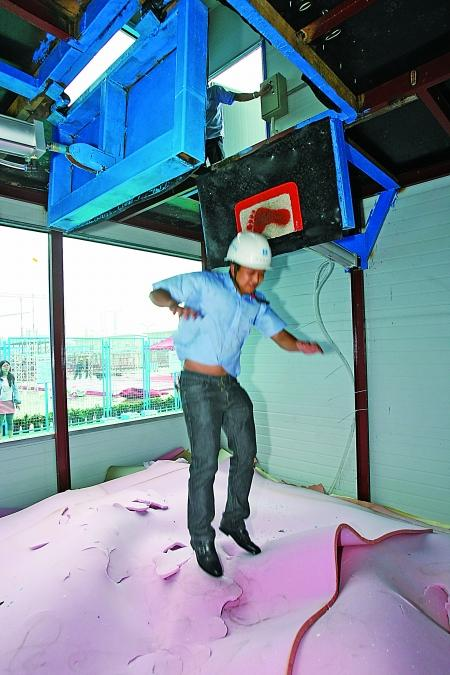helmet: (228, 234, 275, 270)
